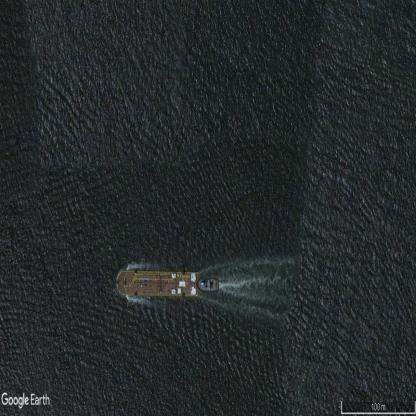ship: (113, 266, 220, 299)
